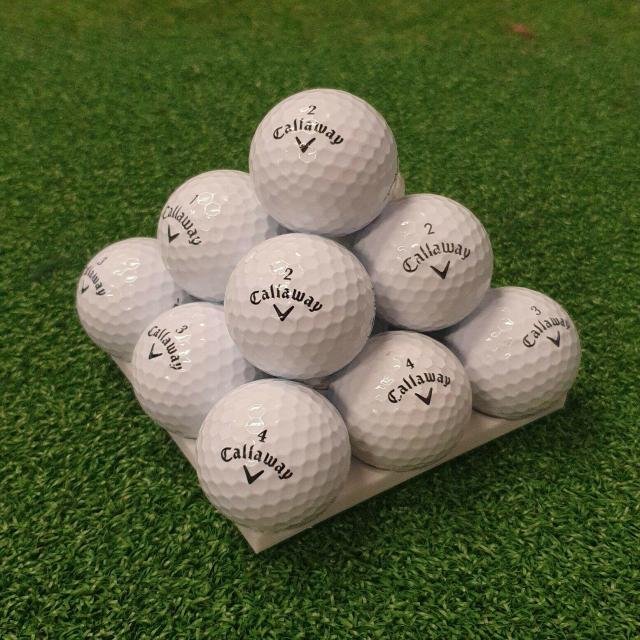ball: (247, 81, 401, 235)
